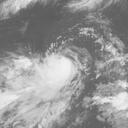cyclone: (33, 52, 82, 101)
